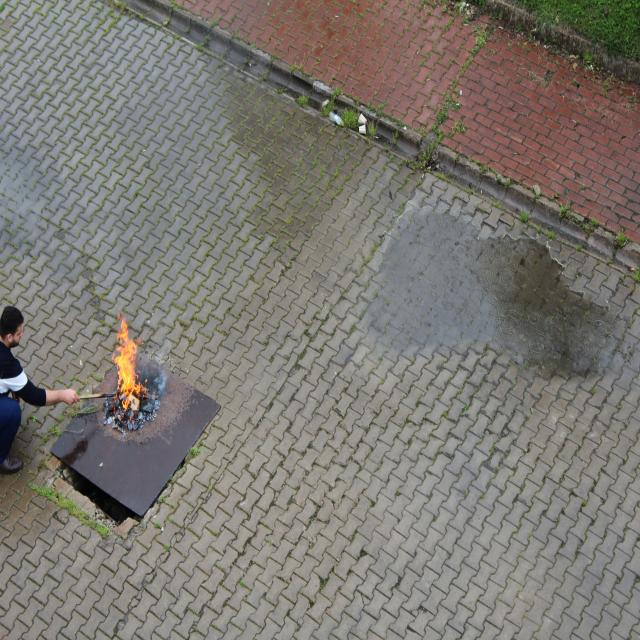fire: (109, 319, 141, 417)
